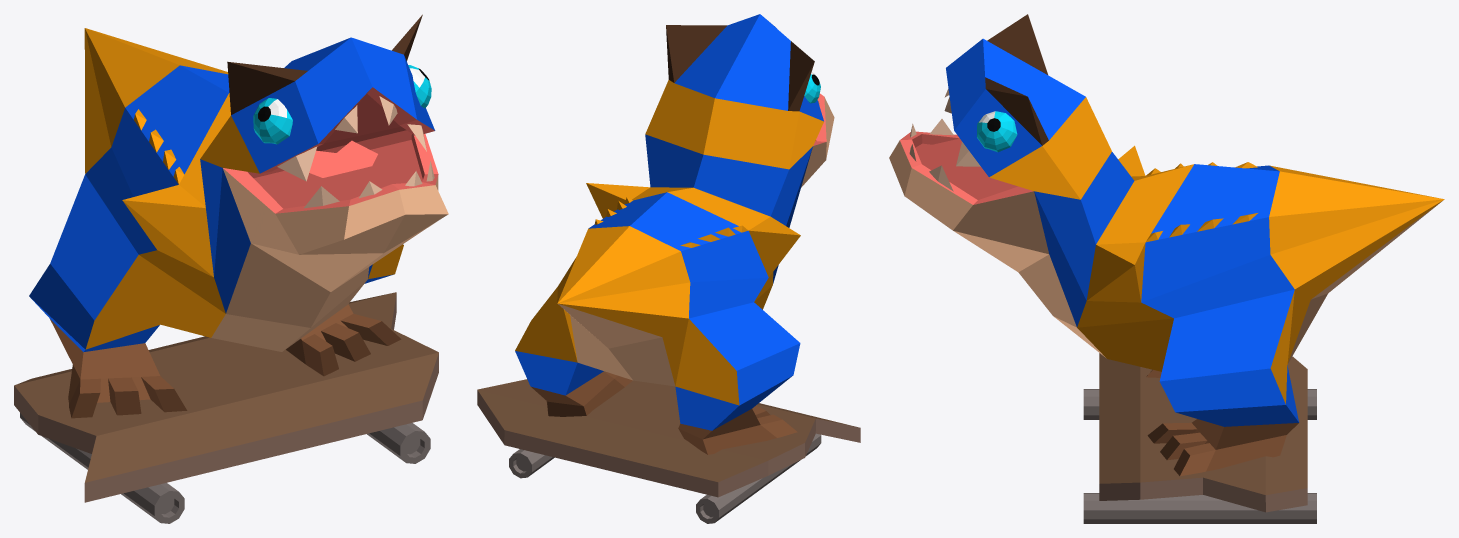
The model's file is carno.fbx.
3 renders of one model, left to right at view 1: azimuth 30°, elevation 25°; view 2: azimuth 150°, elevation 25°; view 3: azimuth 270°, elevation 25°, orthographic. The views are drawn at different scales.
Visible parts, largest first — view 1: character; view 2: character; view 3: character.
Part boxes in pixels (bbox=[...]): character: bbox=[14, 14, 448, 523]; character: bbox=[477, 14, 860, 523]; character: bbox=[889, 14, 1444, 523].
Bounding box in the file's own units: 30.36 × 35.48 × 41.32.
